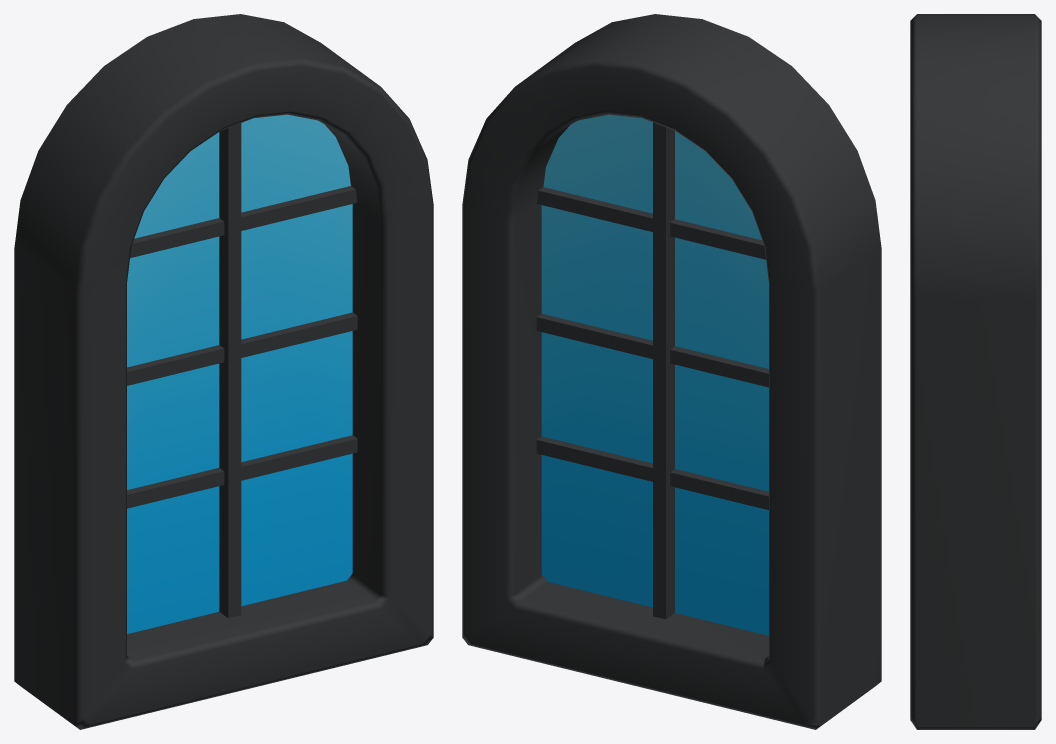
The model's file is Window_Black_19.glb.
3 views of the same model, side by side, from view 1: azimuth 30°, elevation 25°; view 2: azimuth 150°, elevation 25°; view 3: azimuth 270°, elevation 25° (orthographic).
Parts seen in each view (by area): view 1: Window_Black_19; view 2: Window_Black_19; view 3: Window_Black_19.
Part boxes in pixels (bbox=[...]): Window_Black_19: bbox=[14, 14, 433, 729]; Window_Black_19: bbox=[462, 14, 881, 729]; Window_Black_19: bbox=[910, 14, 1041, 729].
Bounding box in the file's own units: 1.24 × 2.07 × 0.4.
2 materials, 2 textured.
